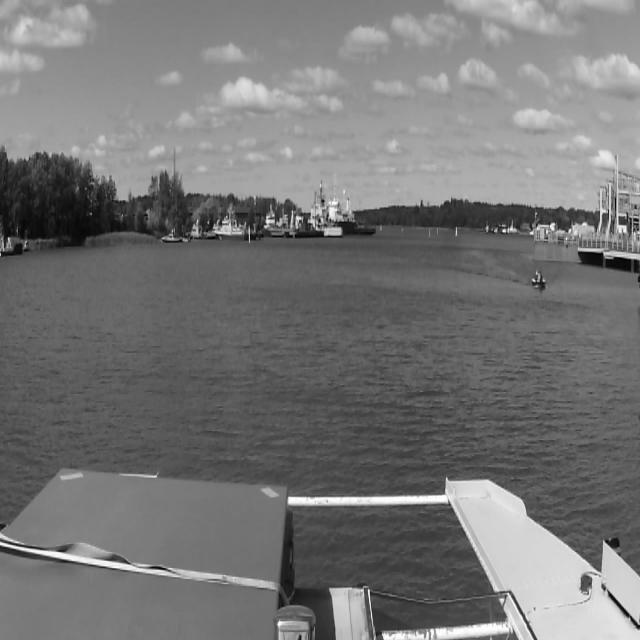buoy: (248, 225, 250, 243), (428, 228, 430, 238), (455, 226, 457, 236), (436, 228, 438, 235), (380, 224, 382, 231)
ship: (308, 179, 342, 238), (212, 199, 242, 245), (532, 269, 546, 290)
